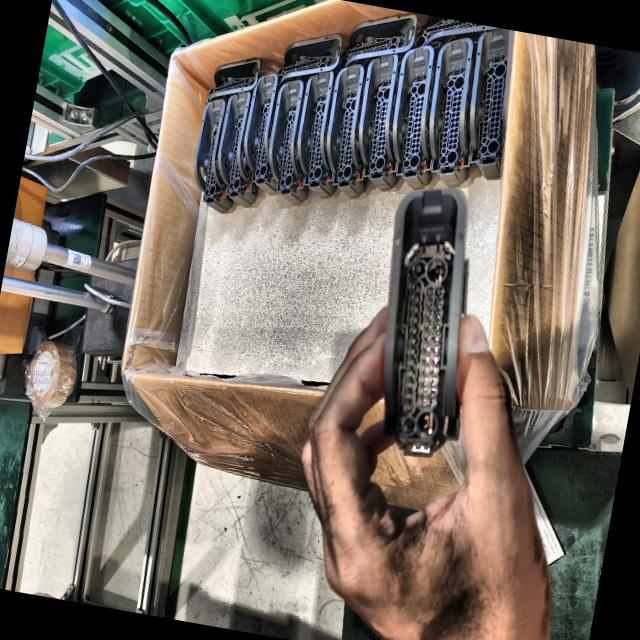P38: (383, 190, 468, 455), (469, 26, 514, 178), (429, 36, 472, 187), (392, 44, 436, 188), (358, 51, 400, 190), (326, 62, 367, 197), (268, 78, 309, 205), (297, 69, 337, 198), (217, 89, 260, 206), (338, 12, 418, 69), (193, 98, 232, 213), (244, 72, 280, 194), (276, 31, 341, 84), (413, 14, 495, 51), (204, 55, 261, 102)
